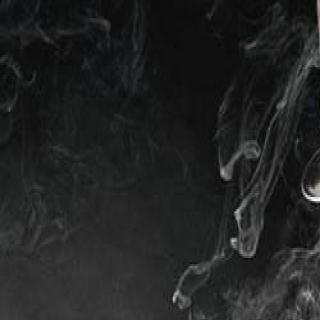smoke: (164, 249, 320, 320)
